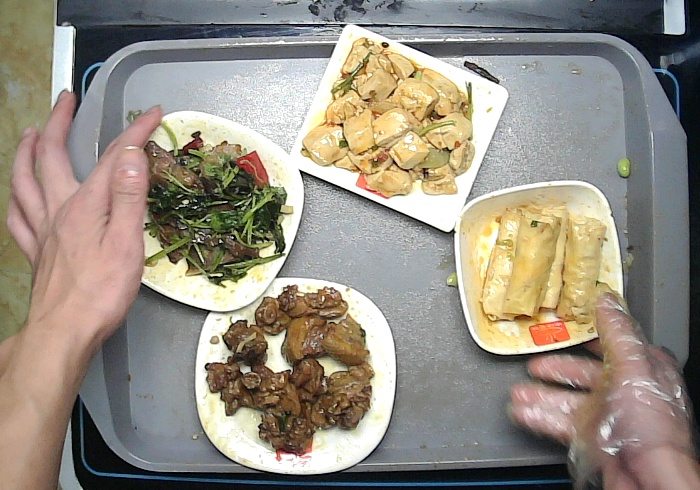SHKJ-Bai_Se_Cai_Die: (110, 109, 306, 312)
SHKJ-Bai_Se_Si_Fang_Cai_Die: (194, 277, 394, 476)
SHKJ-Bai_Se_Xiao_Fang_Die: (455, 180, 626, 357)
SHKJ-Si_Fang_Min: (289, 24, 503, 238)
